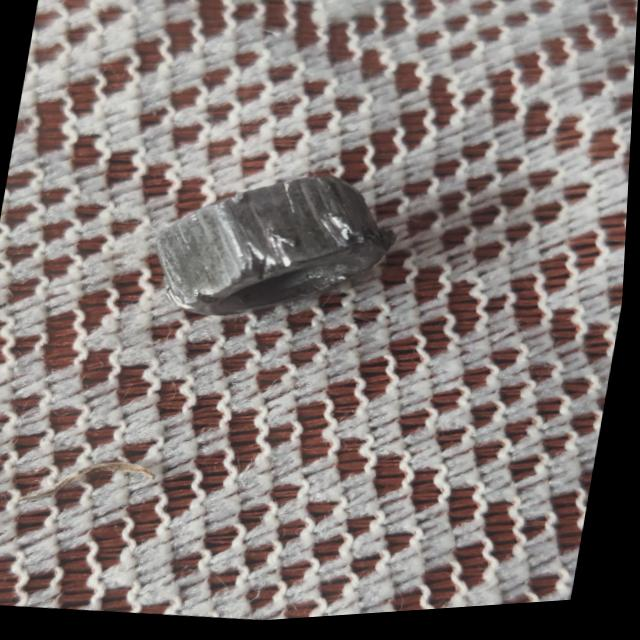infected nut: (157, 180, 397, 318)
